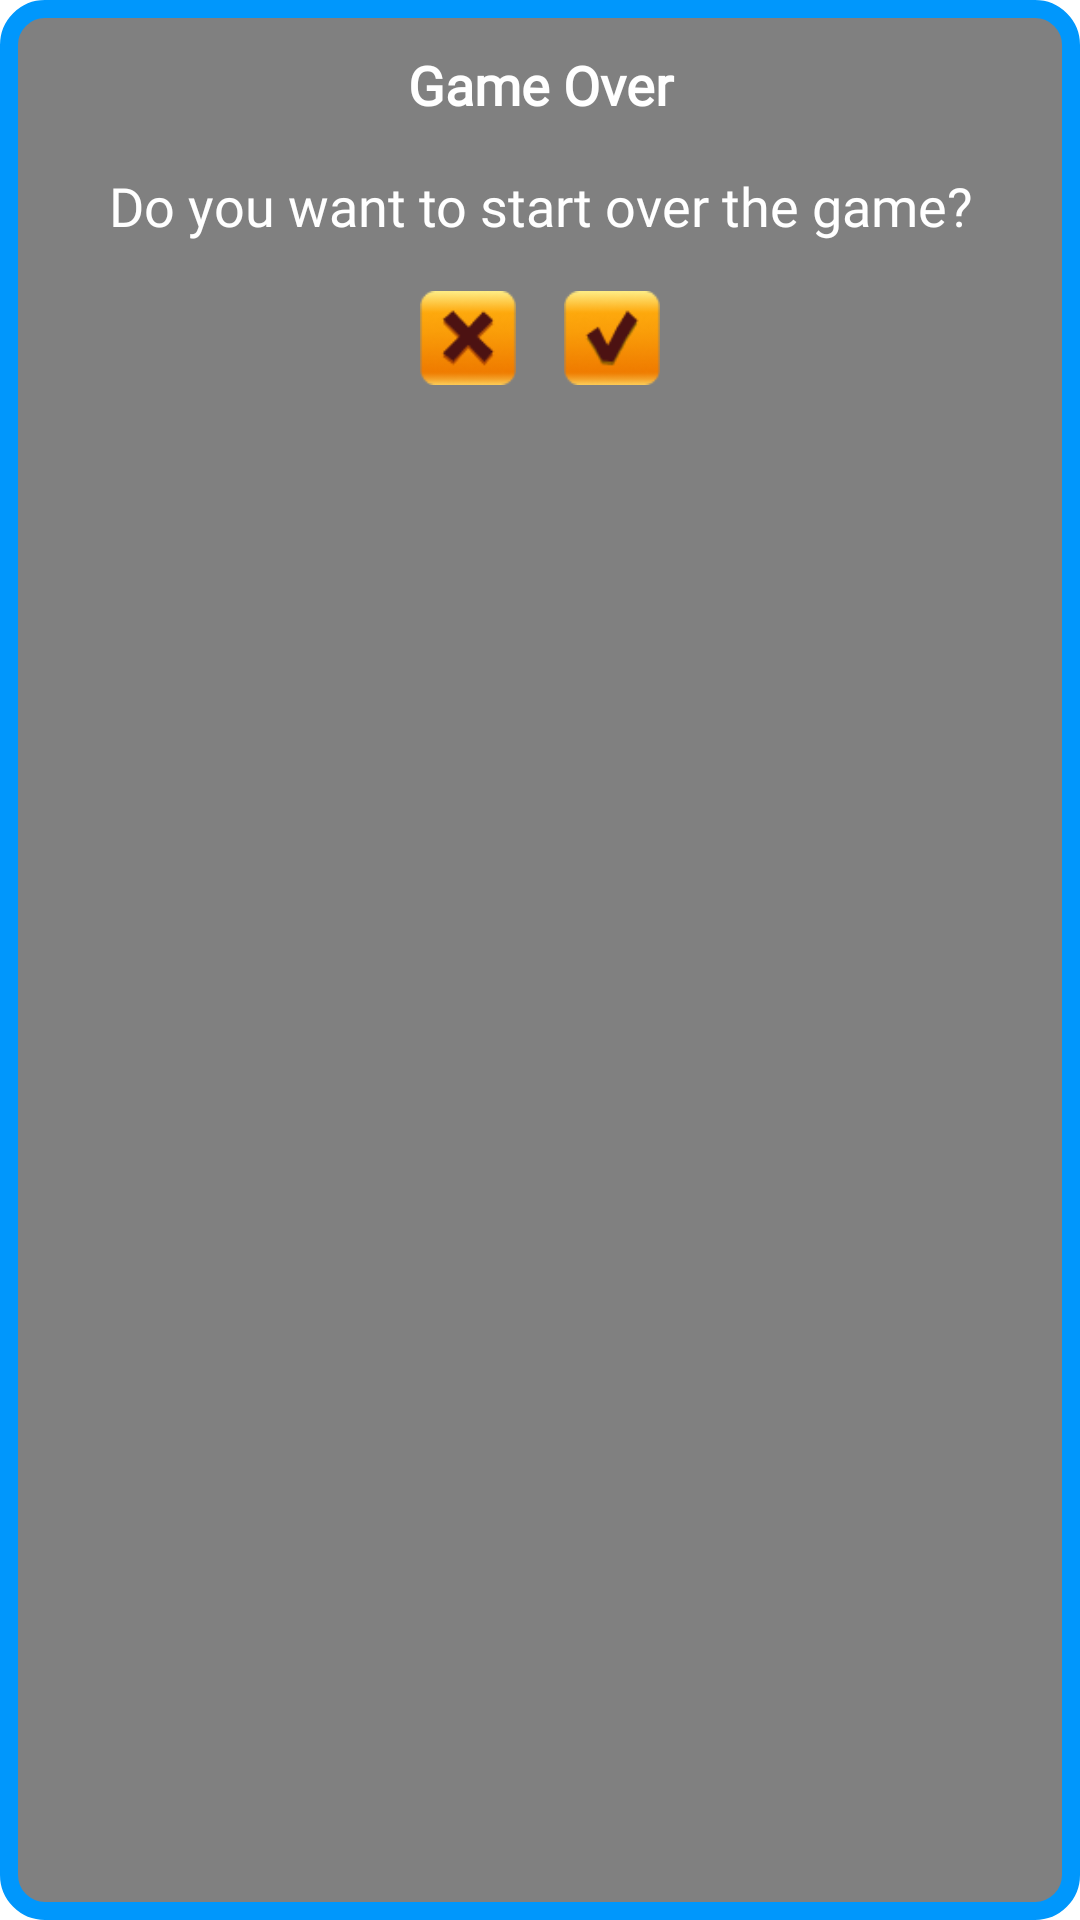

Icons on this 1080px×1920px Android screen, each with its box as (left=x1, top=y1, right=x2, bottom=y2):
No: (left=420, top=291, right=516, bottom=385)
Yes: (left=564, top=291, right=660, bottom=385)
